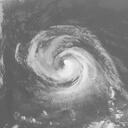cyclone: (24, 24, 102, 108)
